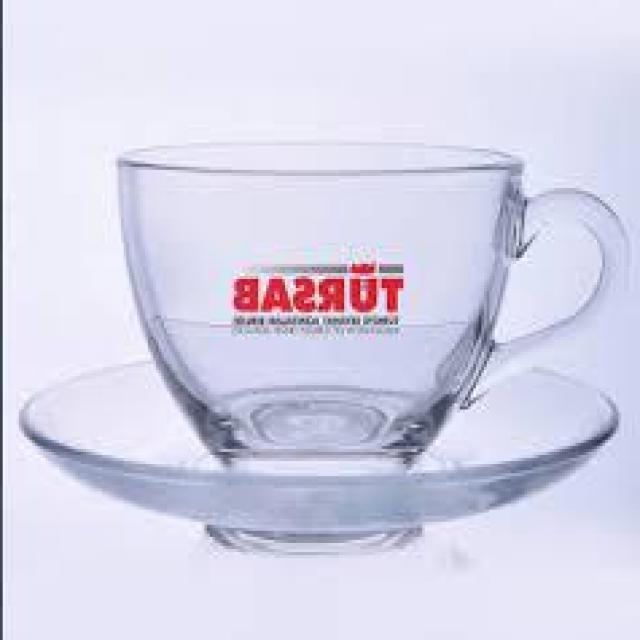glass: (16, 139, 637, 534)
